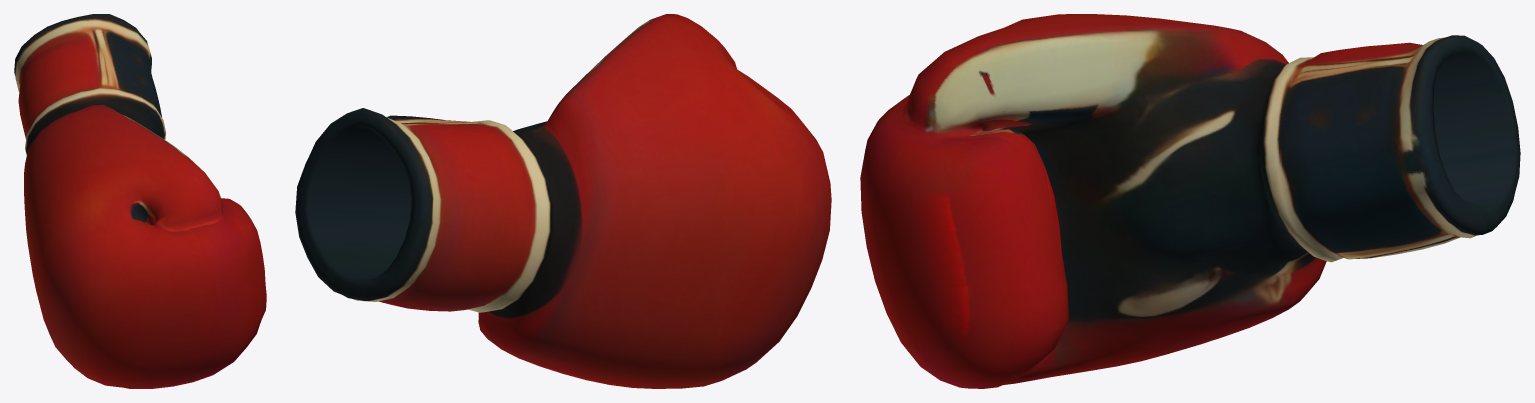
The model's file is boxing glove_R.fbx.
3 views of the same model, side by side, from view 1: azimuth 30°, elevation 25°; view 2: azimuth 150°, elevation 25°; view 3: azimuth 270°, elevation 25° (orthographic). The views are drawn at different scales.
Parts seen in each view (by area): view 1: Boxing_gloves.R; view 2: Boxing_gloves.R; view 3: Boxing_gloves.R.
Part boxes in pixels (x1=…): Boxing_gloves.R: x1=14, y1=14, x2=266, y2=388; Boxing_gloves.R: x1=295, y1=14, x2=831, y2=388; Boxing_gloves.R: x1=860, y1=14, x2=1520, y2=388.
Size of the model in its own units: 26.87 by 27.82 by 42.74.
1 material, 1 textured.
